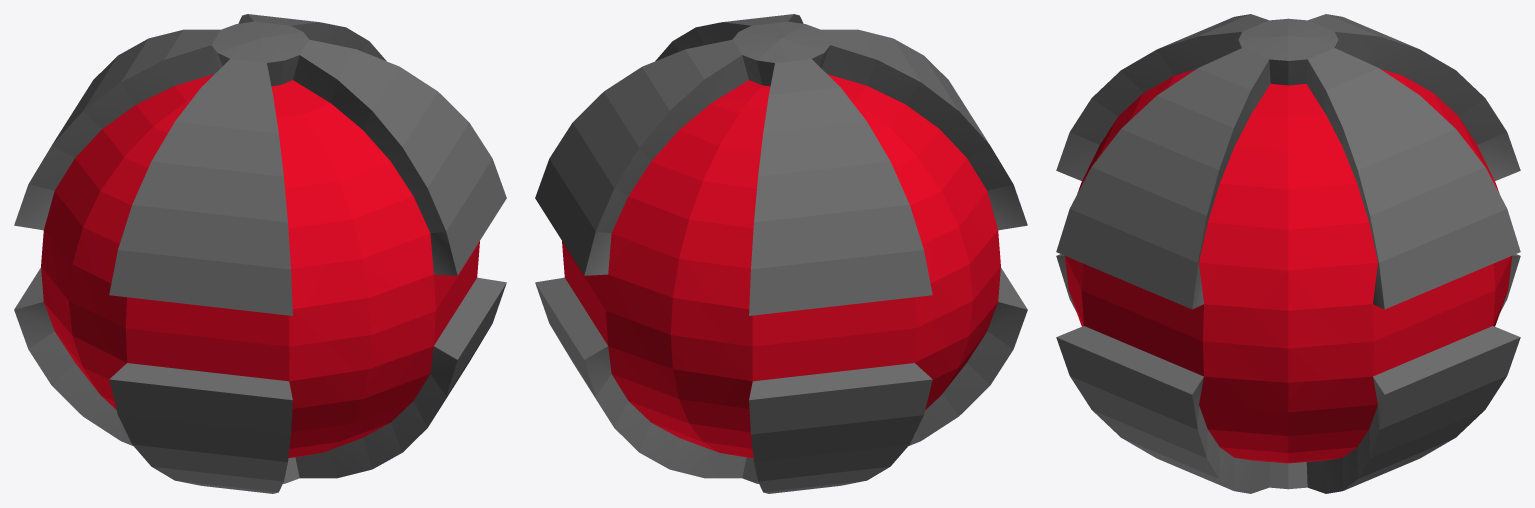
Rendered from Cannonball_Desert.fbx.
The picture shows the model from 3 angles, left to right: view 1: azimuth 30°, elevation 25°; view 2: azimuth 150°, elevation 25°; view 3: azimuth 270°, elevation 25°; orthographic projection.
Parts seen in each view (by area): view 1: Cannon_Ball_Desert; view 2: Cannon_Ball_Desert; view 3: Cannon_Ball_Desert.
Part boxes in pixels (left/top/right/bottom): Cannon_Ball_Desert: left=14, top=14, right=506, bottom=493; Cannon_Ball_Desert: left=535, top=14, right=1027, bottom=493; Cannon_Ball_Desert: left=1056, top=14, right=1520, bottom=493.
Bounding box in the file's own units: 9 × 9.33 × 9.
